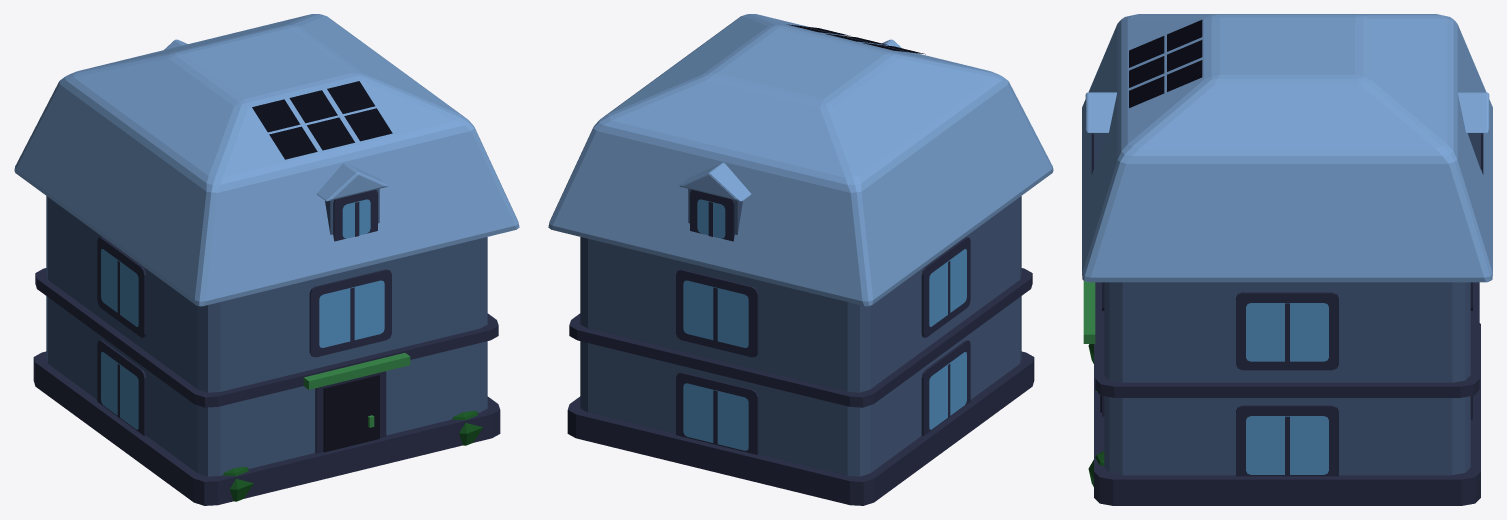
File: house-1x1-2f-mansard-b-solar.glb
3 renders of one model, left to right at view 1: azimuth 30°, elevation 25°; view 2: azimuth 150°, elevation 25°; view 3: azimuth 270°, elevation 25°, orthographic. The views are drawn at different scales.
Parts seen in each view (by area): view 1: house-1x1-2f-mansard-b-solar; view 2: house-1x1-2f-mansard-b-solar; view 3: house-1x1-2f-mansard-b-solar.
Part boxes in pixels (x1=…): house-1x1-2f-mansard-b-solar: x1=14, y1=14, x2=519, y2=505; house-1x1-2f-mansard-b-solar: x1=548, y1=14, x2=1053, y2=505; house-1x1-2f-mansard-b-solar: x1=1082, y1=14, x2=1492, y2=505.
Bounding box in the file's own units: 0.9876 × 1 × 0.9876.
1 material, 1 textured.
